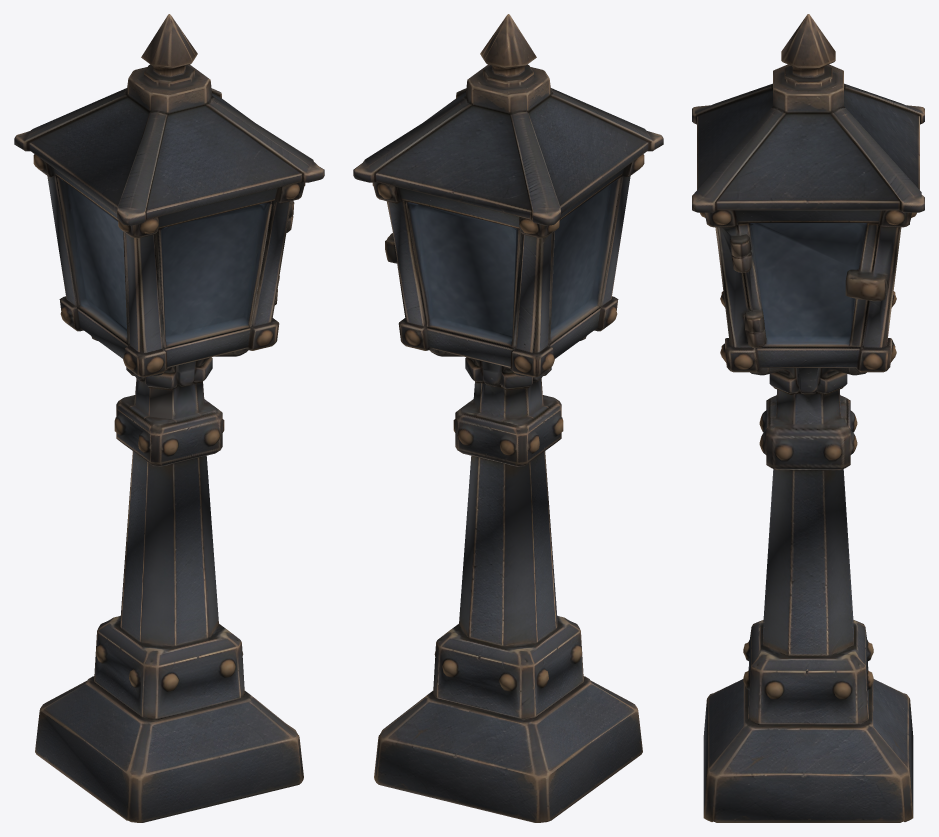
Rendered from SM_Decor_Lantern.fbx.
3 renders of one model, left to right at view 1: azimuth 30°, elevation 25°; view 2: azimuth 150°, elevation 25°; view 3: azimuth 270°, elevation 25°, orthographic.
Parts seen in each view (by area): view 1: SM_Decor_Lantern; view 2: SM_Decor_Lantern; view 3: SM_Decor_Lantern.
Boxes of the visible parts, bbox=[...] form: SM_Decor_Lantern: bbox=[14, 14, 324, 822]; SM_Decor_Lantern: bbox=[353, 14, 663, 822]; SM_Decor_Lantern: bbox=[692, 14, 924, 822].
Size of the model in its own units: 26.59 by 26.21 by 95.
2 materials, 2 textured.
